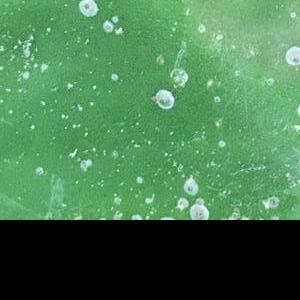Femea: (156, 91, 171, 107), (183, 178, 198, 194), (79, 2, 99, 14), (286, 48, 299, 66), (102, 21, 113, 34)
Linfa: (129, 138, 140, 149), (57, 111, 69, 121), (75, 100, 85, 111), (37, 99, 48, 106), (71, 121, 80, 129), (83, 130, 90, 137), (146, 137, 152, 145), (67, 82, 74, 88), (90, 84, 97, 90)
Macho: (66, 147, 79, 158)
